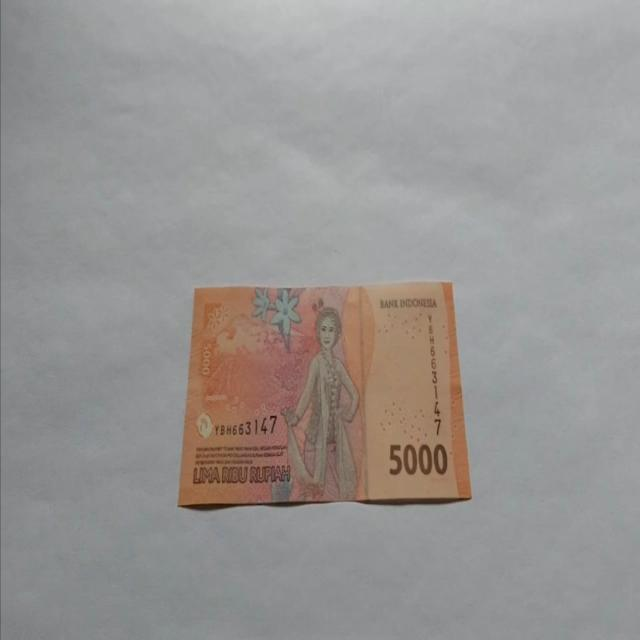lima ribu rupiah: (176, 280, 472, 508), (280, 304, 360, 502)
